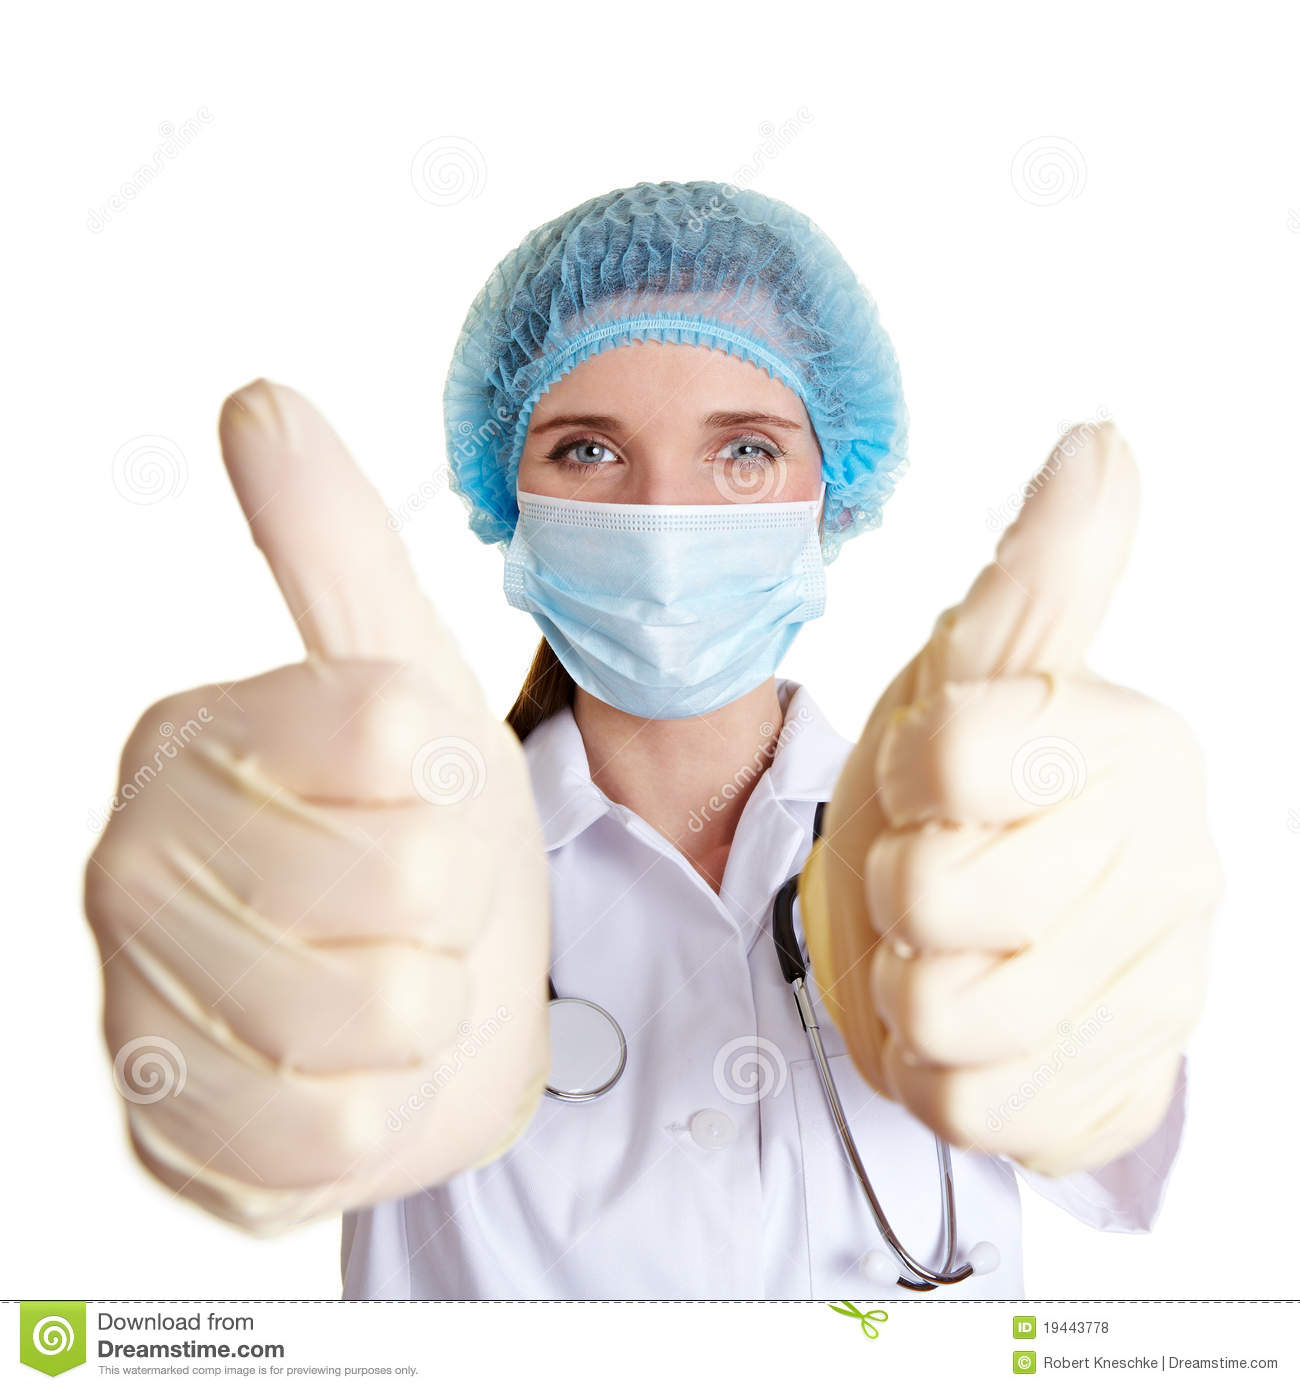mask: (503, 492, 822, 722)
